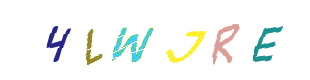4: (67, 0, 147, 80)
E: (156, 0, 236, 80)
J: (126, 0, 206, 80)
L: (107, 0, 187, 80)
R: (147, 0, 227, 80)
W: (113, 0, 193, 80)
